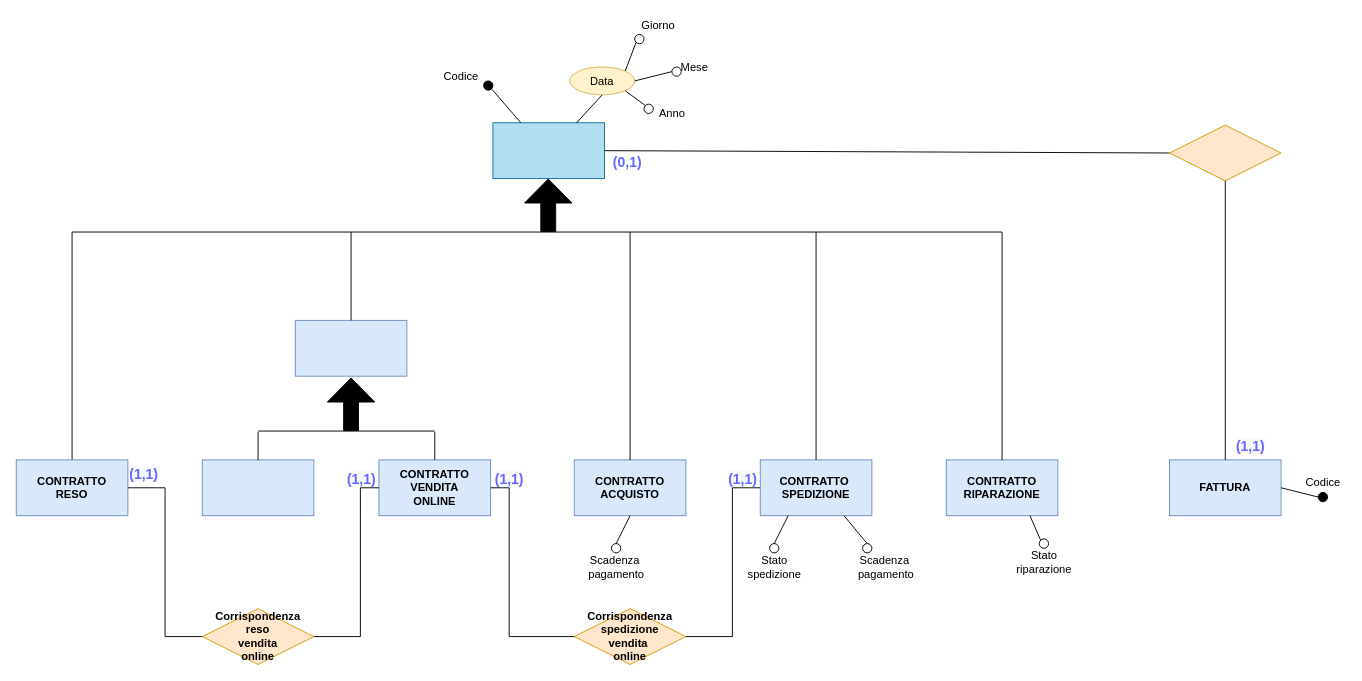
Some shapes in this 1362 by 681 pixel diagram are drawn without their labels. The centre of each missing label's shape, as x and y in pixels:
"CONTRATTO" belongs at point (548, 150).
"CONTRATTO VENDITA" belongs at point (350, 347).
"CONTRATTO VENDITA FISICA" belongs at point (257, 487).
"Emissione" belongs at point (1225, 152).
